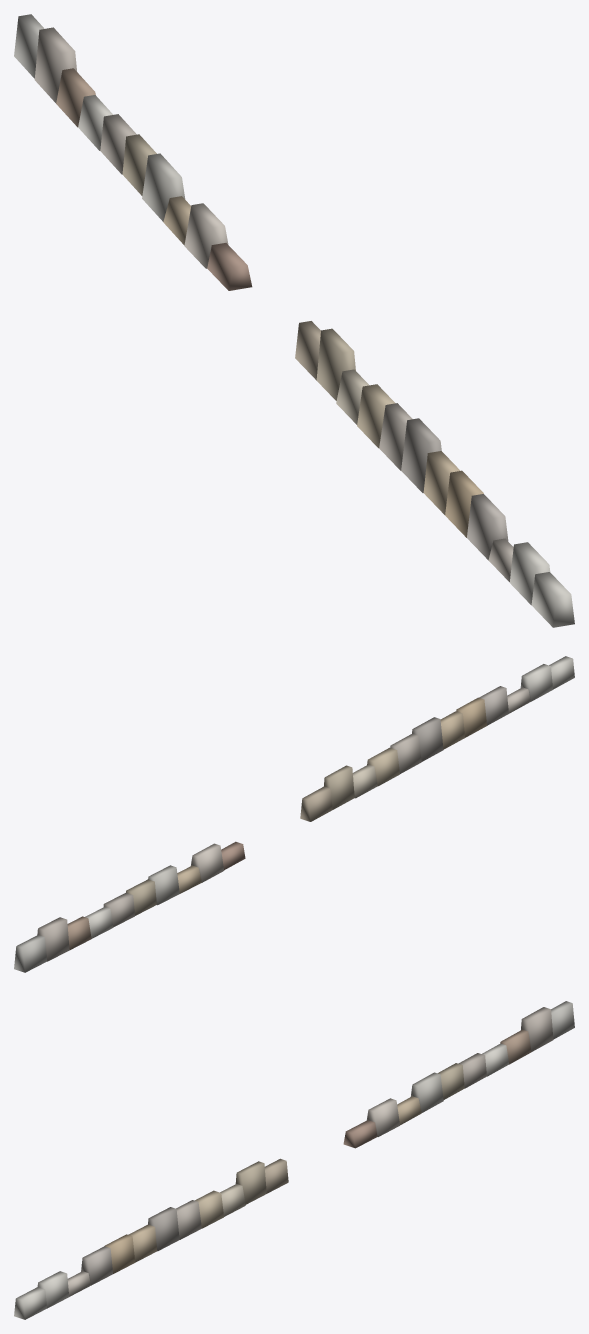
File: farm_11_17_collision.glb
3 views of the same model, one above another, from view 1: azimuth 30°, elevation 25°; view 2: azimuth 150°, elevation 25°; view 3: azimuth 330°, elevation 25° (orthographic). The views are drawn at different scales.
Parts seen in each view (by area): view 1: geometry_0; view 2: geometry_0; view 3: geometry_0.
Boxes of the visible parts, box(x1,y1,x2,y2) form: geometry_0: box(14, 14, 574, 627); geometry_0: box(14, 656, 574, 972); geometry_0: box(14, 1001, 574, 1319).
Bounding box in the file's own units: 6.25 × 1.61 × 38.49.
